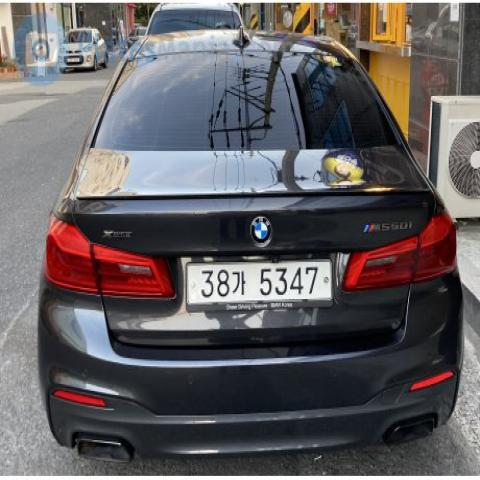LP: (180, 248, 336, 319)
